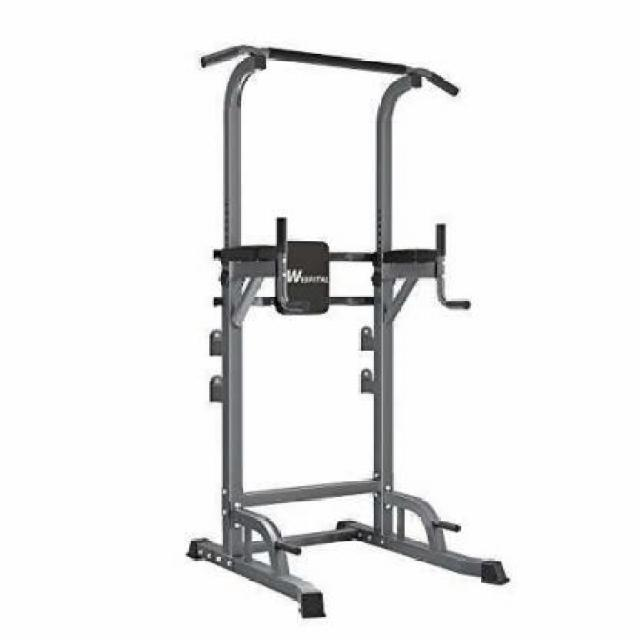chinning dipping: (198, 43, 514, 620)
